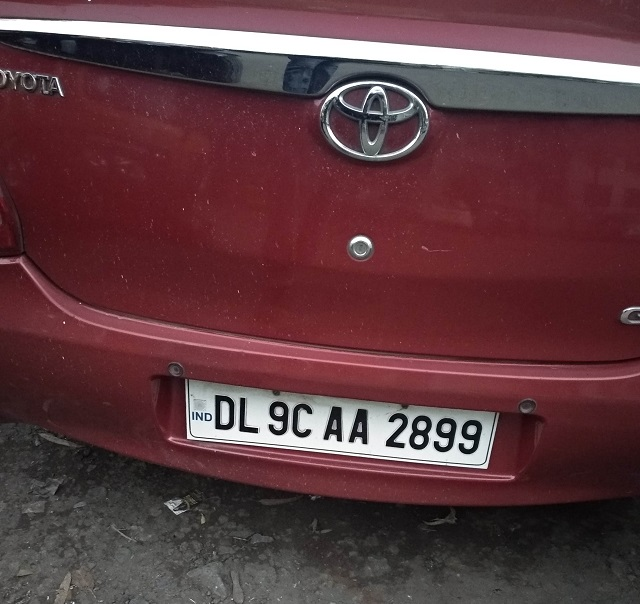licenseplate: (182, 374, 498, 471)
